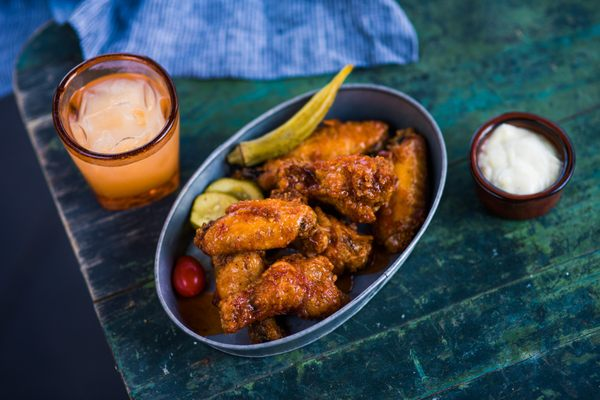sushi: (154, 71, 449, 359), (468, 110, 575, 220)
